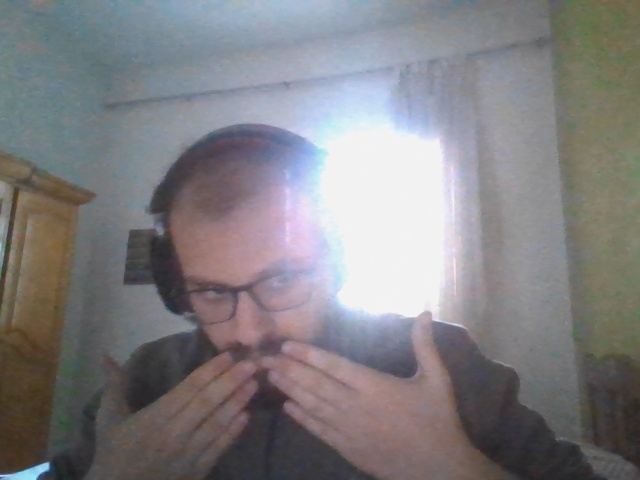Thank You: (101, 352, 449, 480)
